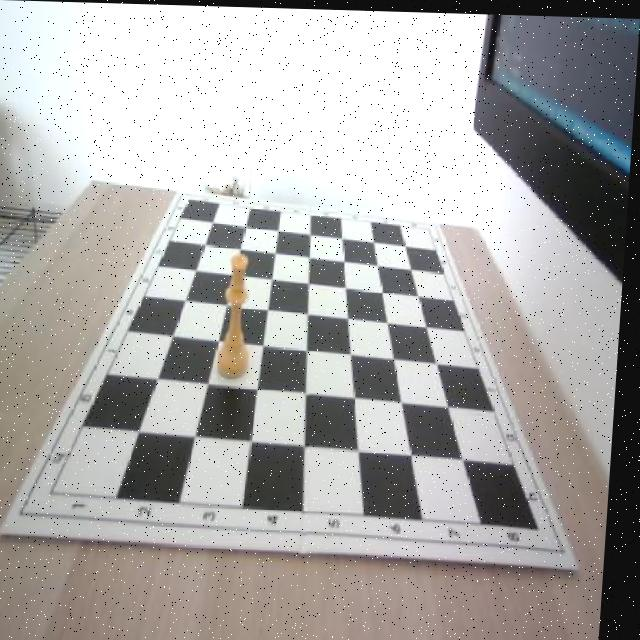white-pawn: (219, 252, 259, 378)
